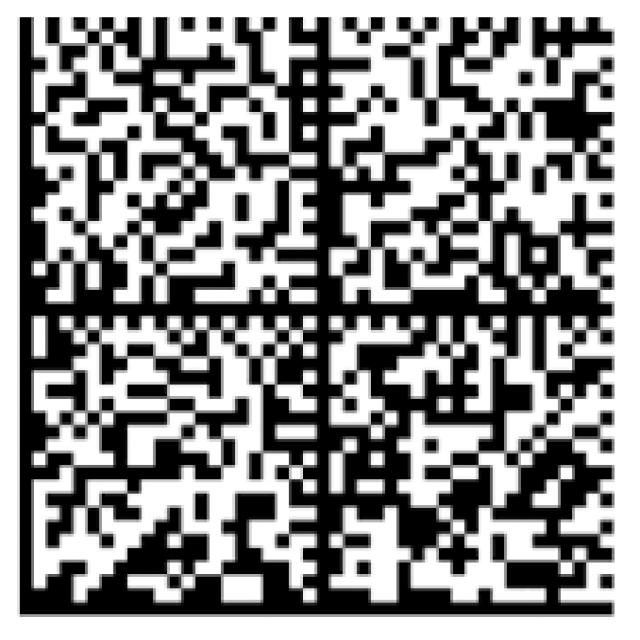datamatrix: (11, 9, 629, 628)
